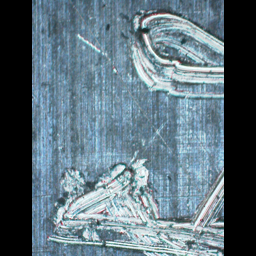d: (41, 150, 224, 256), (123, 4, 224, 110)
